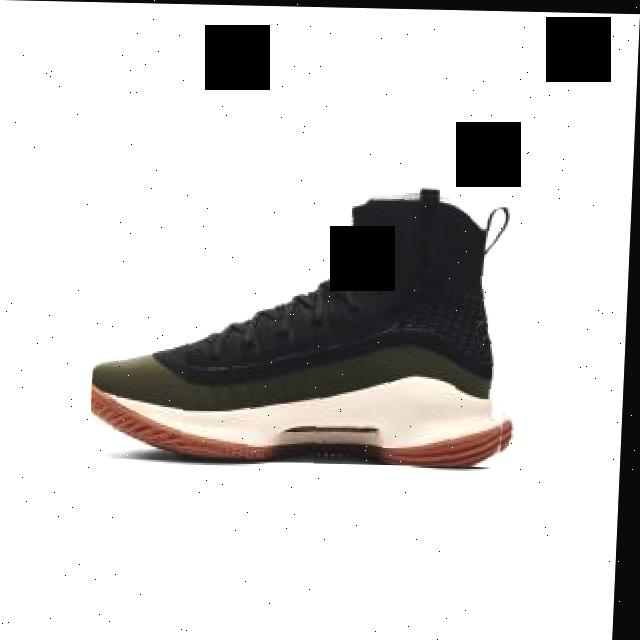shoe: (93, 182, 525, 465)
